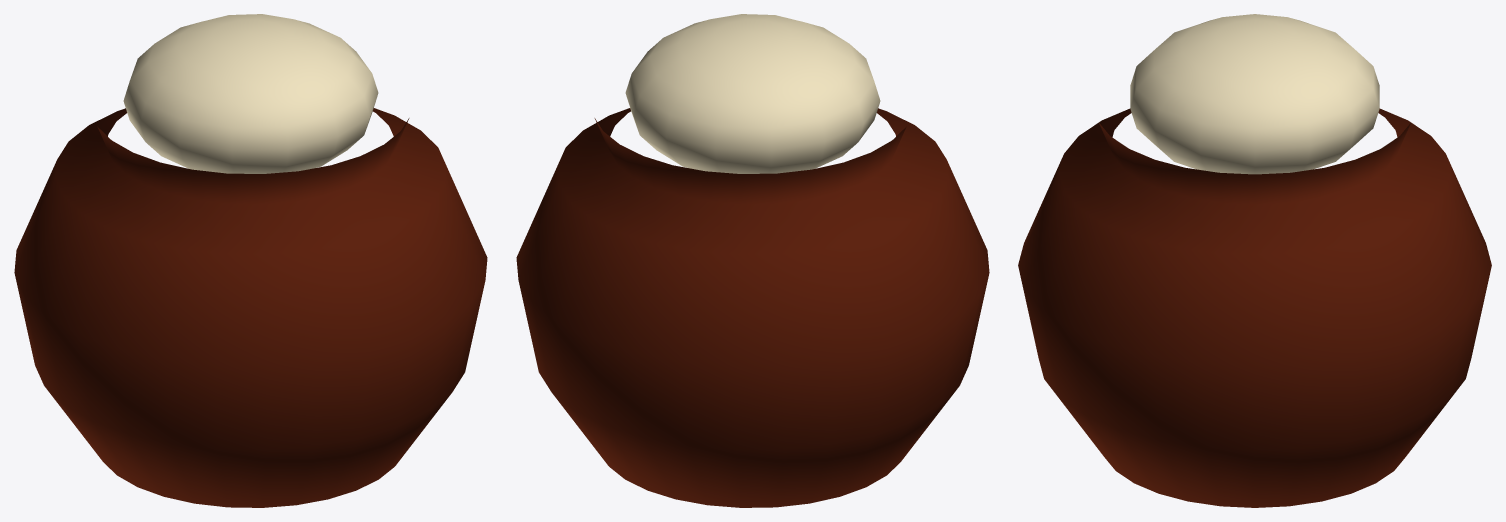
Rendered from makhan-matki.glb.
3 renders of one model, left to right at view 1: azimuth 30°, elevation 25°; view 2: azimuth 150°, elevation 25°; view 3: azimuth 270°, elevation 25°, orthographic.
Visible parts, largest first — view 1: pot, butter; view 2: pot, butter; view 3: pot, butter.
Part boxes in pixels (<box>): pot: <box>14,108,487,507</box>; butter: <box>123,14,378,173</box>; pot: <box>516,108,989,507</box>; butter: <box>625,14,880,173</box>; pot: <box>1018,108,1491,507</box>; butter: <box>1130,14,1379,174</box>.
Bounding box in the file's own units: 0.23 × 0.2241 × 0.23.
